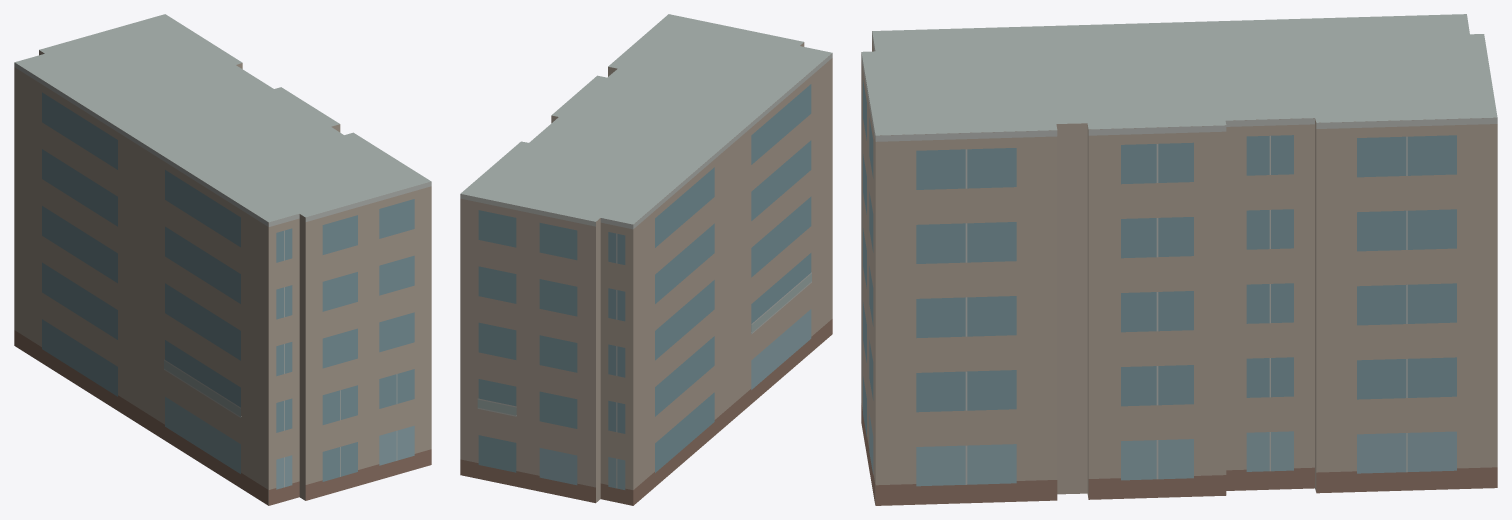
File: survey-upis-32908831.glb
3 views of the same model, side by side, from view 1: azimuth 30°, elevation 25°; view 2: azimuth 150°, elevation 25°; view 3: azimuth 270°, elevation 25° (orthographic). The views are drawn at different scales.
Visible parts, largest first — view 1: survey-upis-32908831.tmp; view 2: survey-upis-32908831.tmp; view 3: survey-upis-32908831.tmp.
Part boxes in pixels (<box>): survey-upis-32908831.tmp: <box>14,14,431,505</box>; survey-upis-32908831.tmp: <box>460,14,832,505</box>; survey-upis-32908831.tmp: <box>861,14,1497,505</box>.
Bounding box in the file's own units: 10.15 × 14.4 × 22.43.
